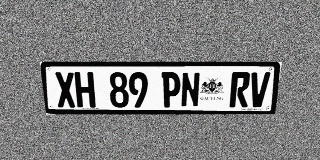8: (109, 72, 129, 107)
9: (129, 72, 148, 107)
H: (74, 72, 96, 107)
N: (181, 72, 200, 107)
P: (161, 72, 181, 107)
R: (229, 72, 251, 107)
V: (248, 72, 271, 107)
X: (54, 72, 77, 107)
